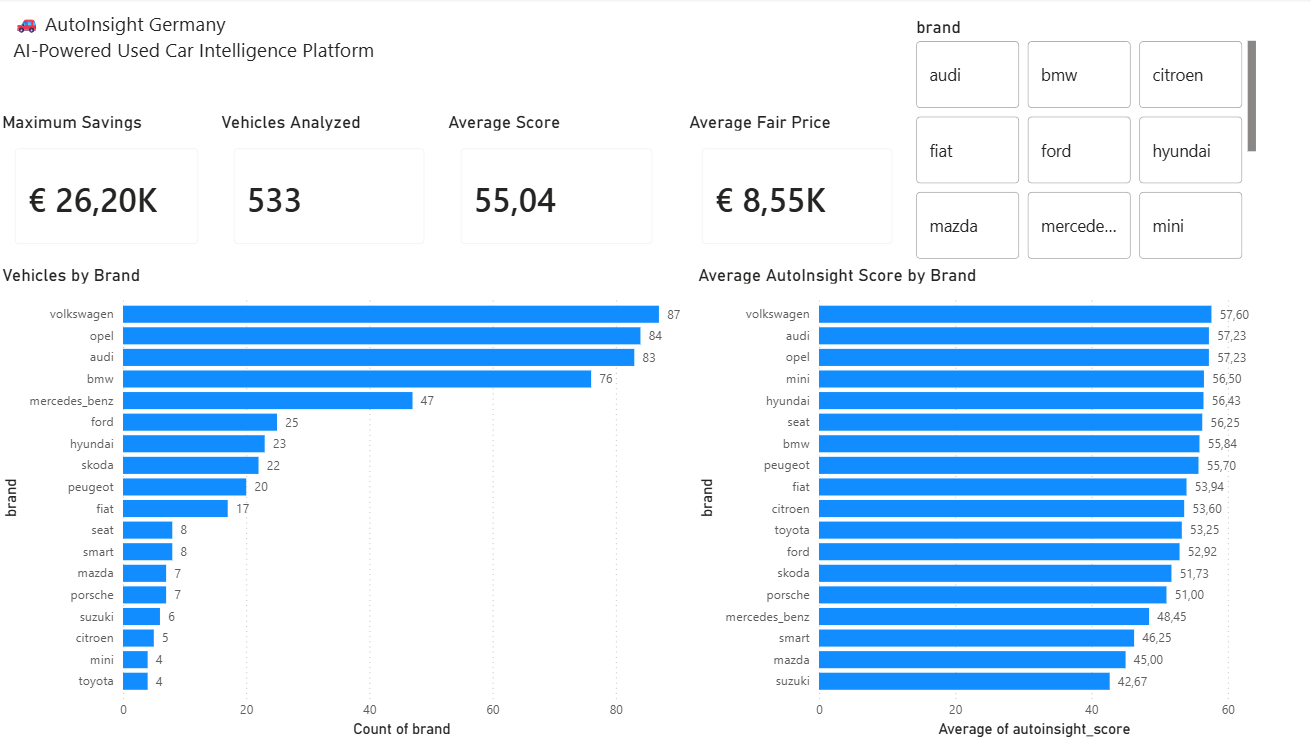

This screenshot's page, from the dashboard's own definition file:
{"tool":"powerbi","page":{"name":"AutoInsight Germany Overview","canvas":[1280,720],"ordinal":0},"visuals":[{"type":"cardVisual","title":"Maximum Savings","fields":{"Data":["Max(car_deals.savings_eur)"]},"box":[0,109.4,212,146.2],"z":0},{"type":"cardVisual","title":"Vehicles Analyzed","fields":{"Data":["CountNonNull(car_deals.market_price)"]},"box":[212,109.4,219.8,146.2],"z":1},{"type":"cardVisual","title":"Average Score","fields":{"Data":["Avg(car_deals.autoinsight_score)"]},"box":[431.8,109.4,220.8,146.2],"z":2},{"type":"cardVisual","title":"Average Fair Price","fields":{"Data":["Avg(car_deals.fair_price)"]},"box":[665.2,109.4,219.8,146.2],"z":3},{"type":"clusteredBarChart","title":"Vehicles by Brand","fields":{"Category":["car_deals.brand"],"Y":["CountNonNull(car_deals.brand)"]},"box":[0,257.5,673.9,462.8],"z":4},{"type":"clusteredBarChart","title":"Average AutoInsight Score by Brand","fields":{"Y":["Avg(car_deals.autoinsight_score)"],"Category":["car_deals.brand"]},"box":[673.9,257.5,550.9,462.8],"z":5},{"type":"advancedSlicerVisual","fields":{"Values":["car_deals.brand"]},"box":[885,17.4,339.8,240.1],"z":6},{"type":"textbox","box":[10.7,6.8,365,91],"z":7}]}

Visuals, with their boxes in screenshot pixels (x1, y1, x2, y2), scaled from the page's 1280x720 canvas onto the 1311x739 screenshot:
"Maximum Savings" cardVisual: crop(0, 112, 217, 262)
"Vehicles Analyzed" cardVisual: crop(217, 112, 442, 262)
"Average Score" cardVisual: crop(442, 112, 668, 262)
"Average Fair Price" cardVisual: crop(681, 112, 906, 262)
"Vehicles by Brand" clusteredBarChart: crop(0, 264, 690, 738)
"Average AutoInsight Score by Brand" clusteredBarChart: crop(690, 264, 1254, 738)
advancedSlicerVisual - car_deals.brand: crop(906, 18, 1254, 264)
textbox: crop(11, 7, 385, 100)
